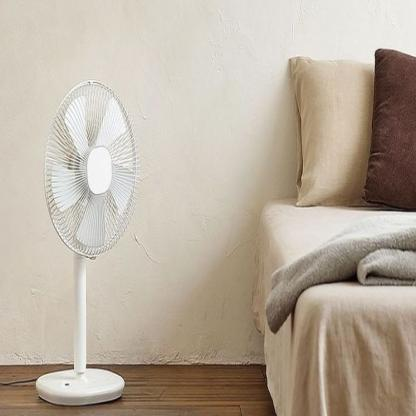fan: (36, 79, 145, 409)
